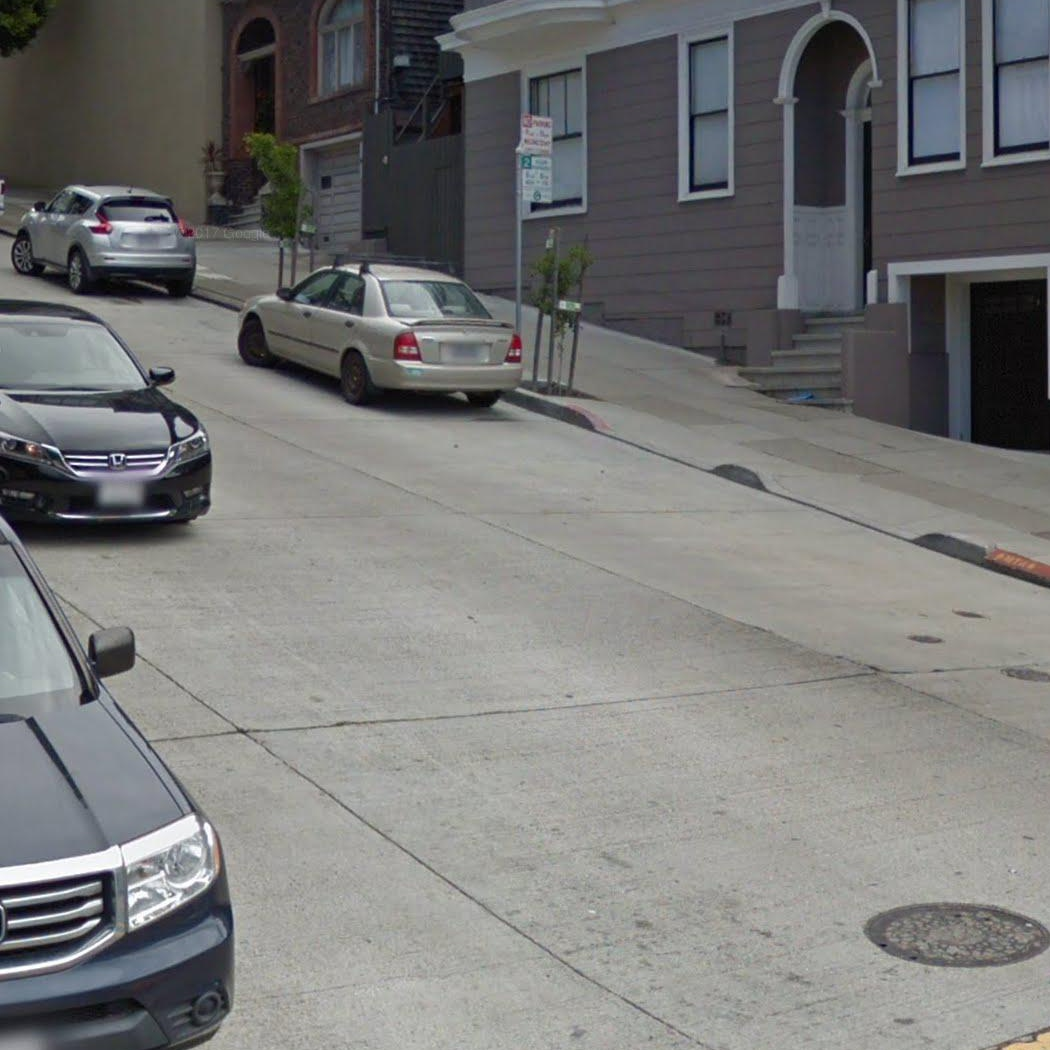2 Hour Parking: (521, 156, 553, 202)
No Parking: (519, 115, 554, 154)
